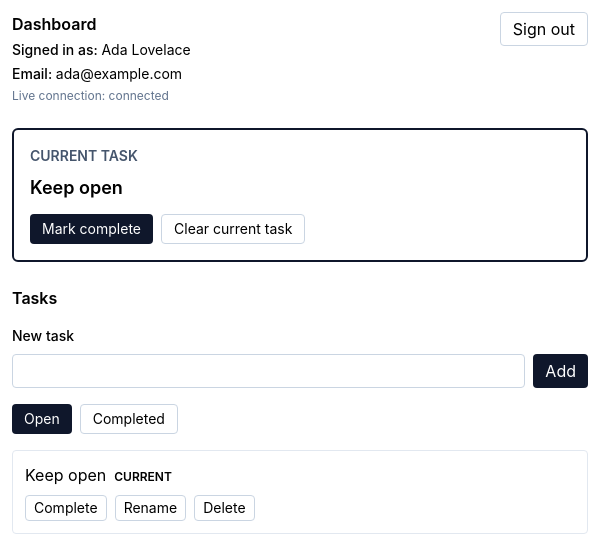
Test: dashboard tasks › clears the current task without completing it
Click the button "Clear current task". click: [233, 229]
box: [161,214,305,244]
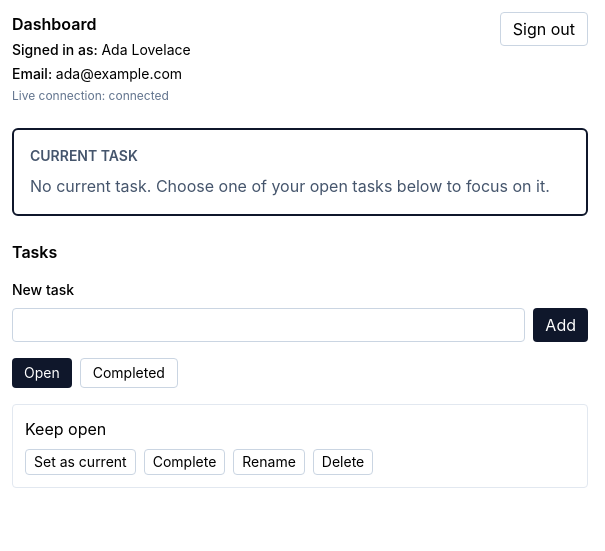
Result: the text "No current task" is shown at [30,176,550,196]
